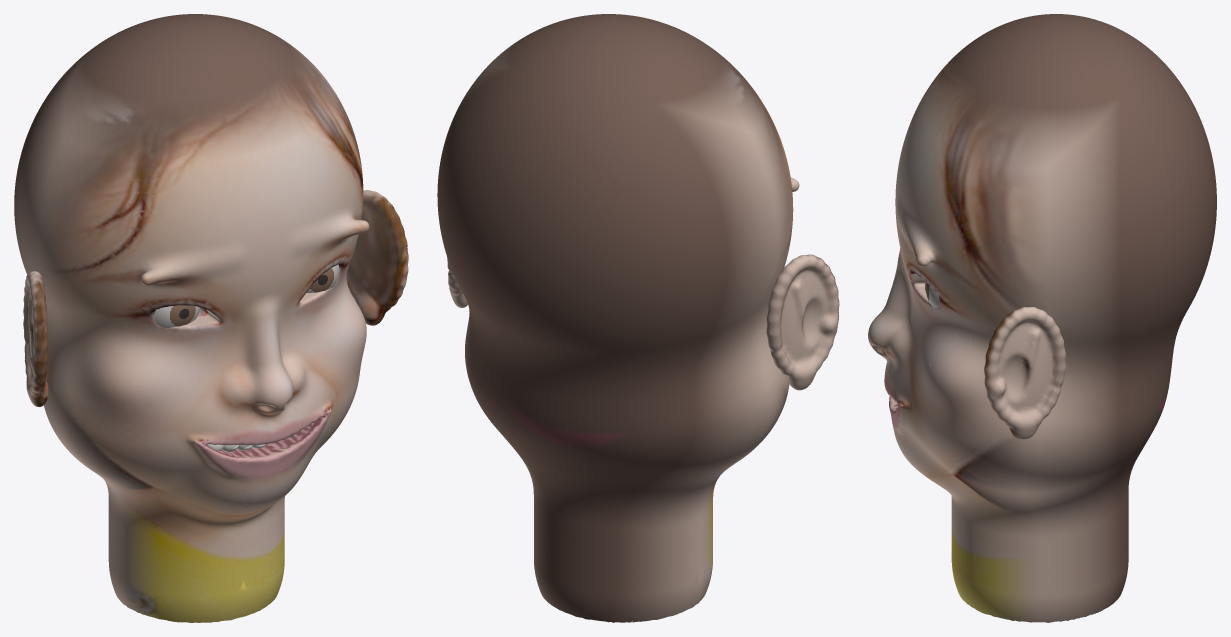
Rendered from karma_face_stage1_C_EXPERIMENT.glb.
3 views of the same model, side by side, from view 1: azimuth 30°, elevation 25°; view 2: azimuth 150°, elevation 25°; view 3: azimuth 270°, elevation 25° (orthographic).
Visible parts, largest first — view 1: head; view 2: head; view 3: head.
Boxes of the visible parts, x1,y1,x2,y2 form: head: (14, 14, 408, 622); head: (437, 14, 839, 622); head: (868, 14, 1216, 622).
Size of the model in its own units: 2.7 by 3.83 by 2.17.
